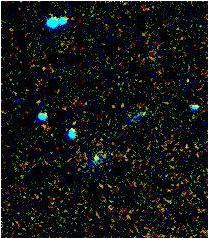star: (4, 85, 34, 115)
